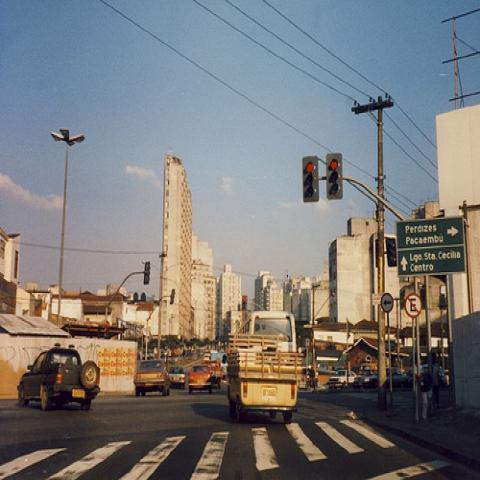bus: (236, 310, 298, 352)
car: (134, 358, 171, 397), (420, 364, 450, 390), (188, 365, 213, 393), (327, 368, 357, 390), (354, 370, 379, 387), (168, 366, 186, 388), (386, 369, 407, 386), (210, 350, 218, 365), (202, 352, 210, 360)
truck: (227, 332, 307, 424), (18, 346, 100, 414)
